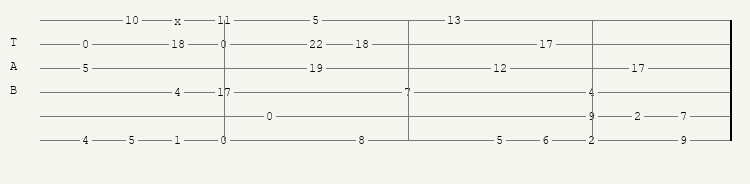0: (82, 38, 93, 50), (220, 134, 231, 146), (220, 38, 231, 50), (266, 110, 277, 122)
1: (174, 134, 185, 146)
10: (125, 14, 143, 26)
11: (217, 14, 235, 26)
12: (493, 62, 511, 74)
13: (447, 14, 465, 26)
17: (217, 86, 235, 98), (539, 38, 557, 50), (631, 62, 649, 74)
18: (171, 38, 189, 50), (355, 38, 373, 50)
19: (309, 62, 327, 74)
2: (588, 134, 599, 146), (634, 110, 645, 122)
22: (309, 38, 327, 50)
4: (82, 134, 93, 146), (174, 86, 185, 98), (588, 86, 599, 98)
5: (82, 62, 93, 74), (128, 134, 139, 146), (312, 14, 323, 26), (496, 134, 507, 146)
6: (542, 134, 553, 146)
7: (404, 86, 415, 98), (680, 110, 691, 122)
8: (358, 134, 369, 146)
9: (588, 110, 599, 122), (680, 134, 691, 146)
x: (174, 15, 185, 25)
